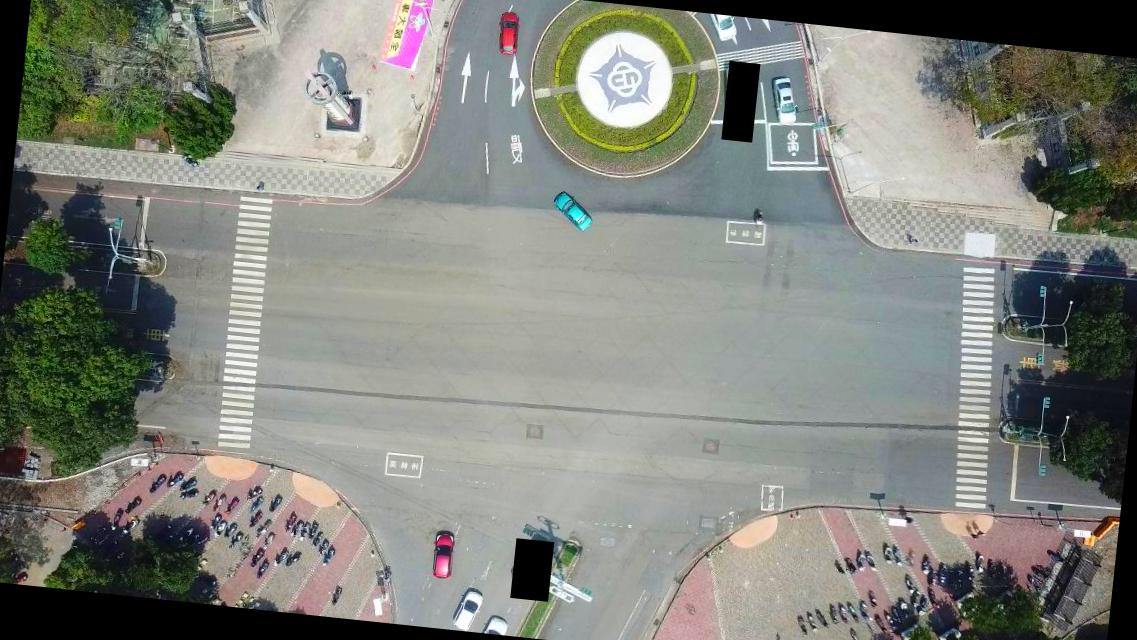vehicle: (550, 190, 598, 233), (767, 76, 800, 127), (450, 588, 486, 632), (430, 531, 456, 581), (496, 9, 522, 56), (705, 14, 741, 44), (482, 610, 513, 634)
